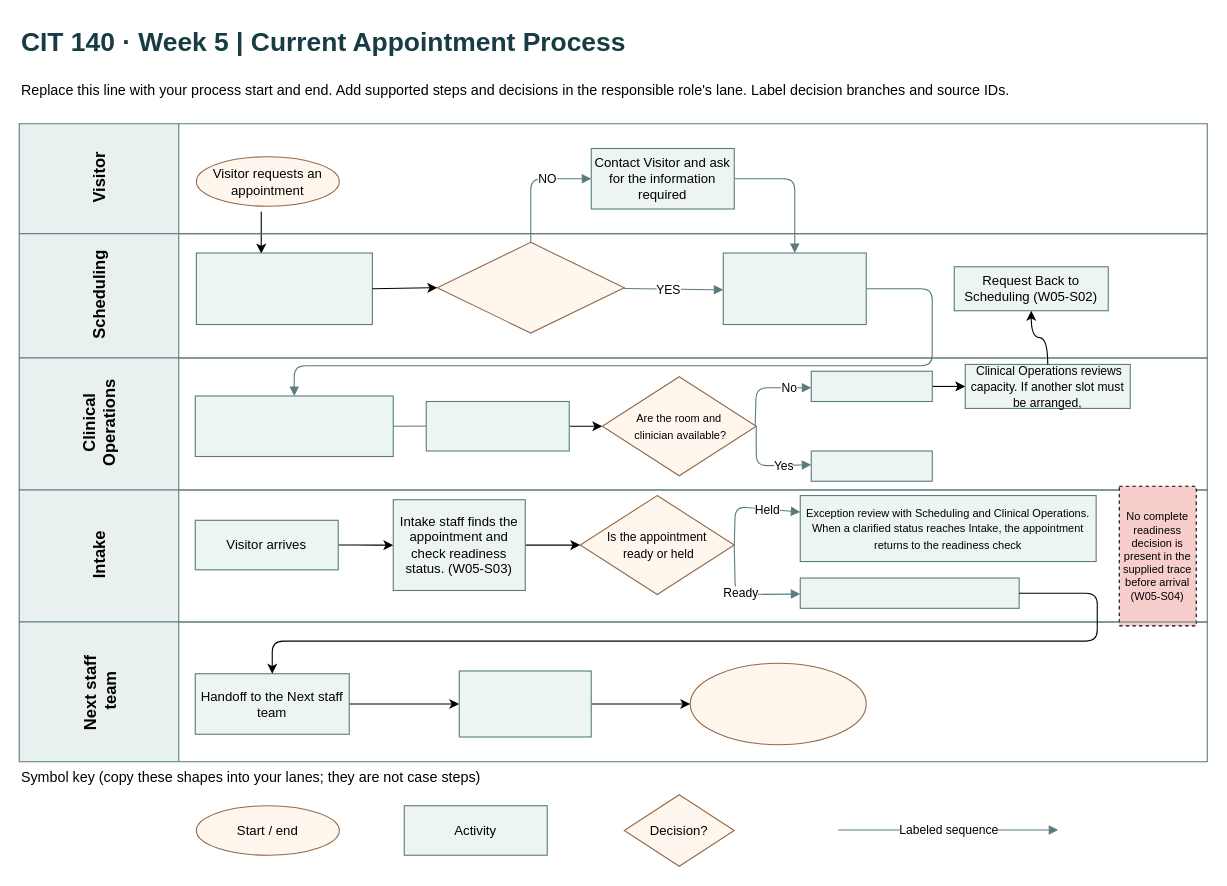
The diagram is 1227 pixels wide and 886 high, and some of its shapes have lost their labels. Here are the shapes that lost their labels. From the top down, the centre of each, then its label:
At [283,288]: "Scheduling records the requested slot and support preferences.(W05-S01)".
At [530,287]: "Are the required booking details complete?".
At [794,288]: "Scheduling requests the clinical readiness decision.(W05-S01)".
At [871,386]: "Held Status".
At [293,426]: "Clinical Operations receives the scheduling request".
At [497,425]: "Check Room and Clinician availability".
At [871,465]: "Record Readiness".
At [909,592]: "Support-arrangement confirmation".
At [524,703]: "Visitor received".
At [777,703]: "Appointment process complete.".
